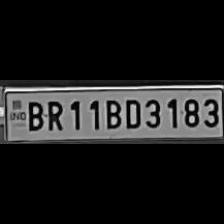1: (65, 96, 83, 132), (162, 94, 180, 128), (84, 96, 100, 132)
3: (201, 94, 219, 128), (143, 96, 161, 128)
8: (180, 94, 198, 128)
B: (23, 97, 44, 130), (102, 96, 120, 130)
D: (122, 96, 142, 128)
R: (44, 98, 64, 132)
